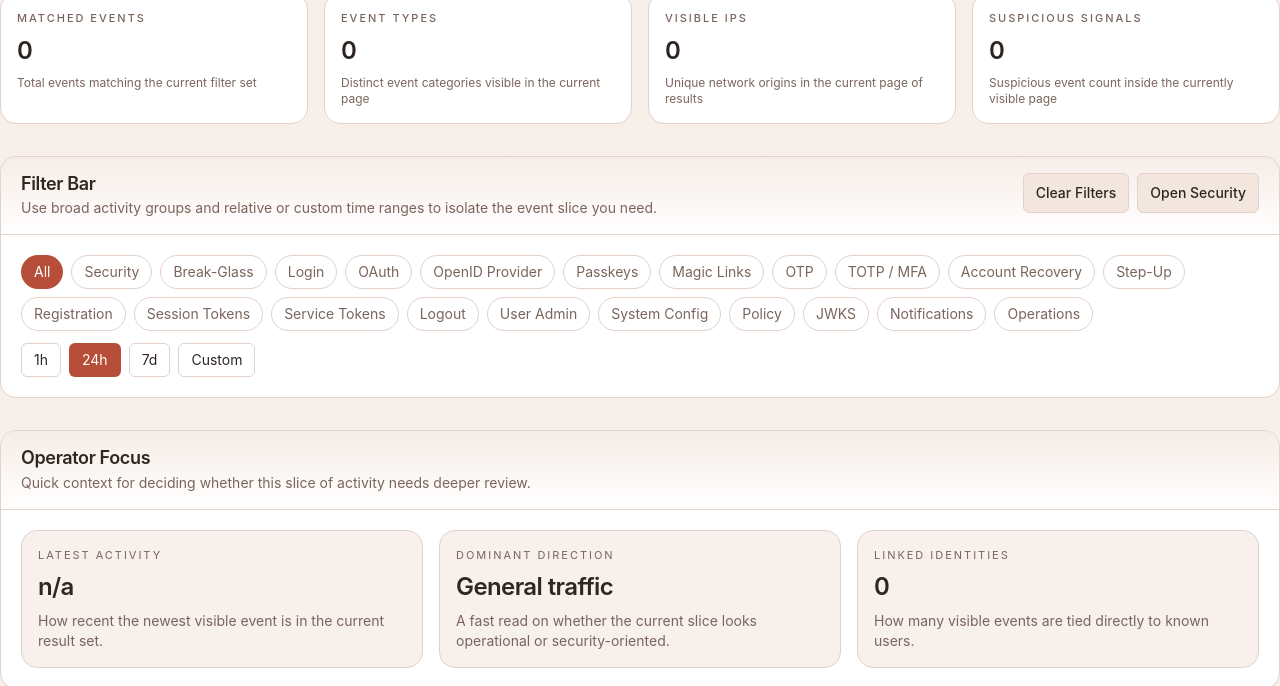
Test: Events time range › counts a relative range as an active filter
(page scrolled)
Click the button "7d" at (150,360), box [129,343,170,377]
(page scrolled)
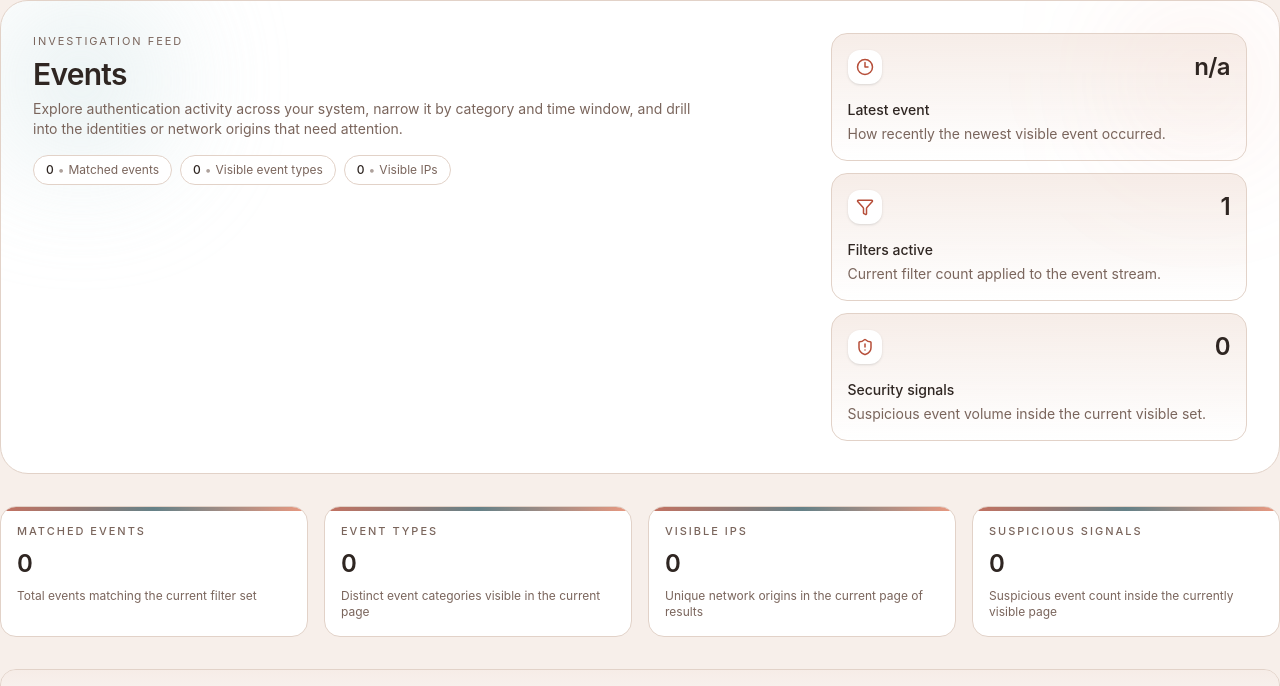
Result: the text "Filters active" shows "1" at [1220,192,1230,221]
